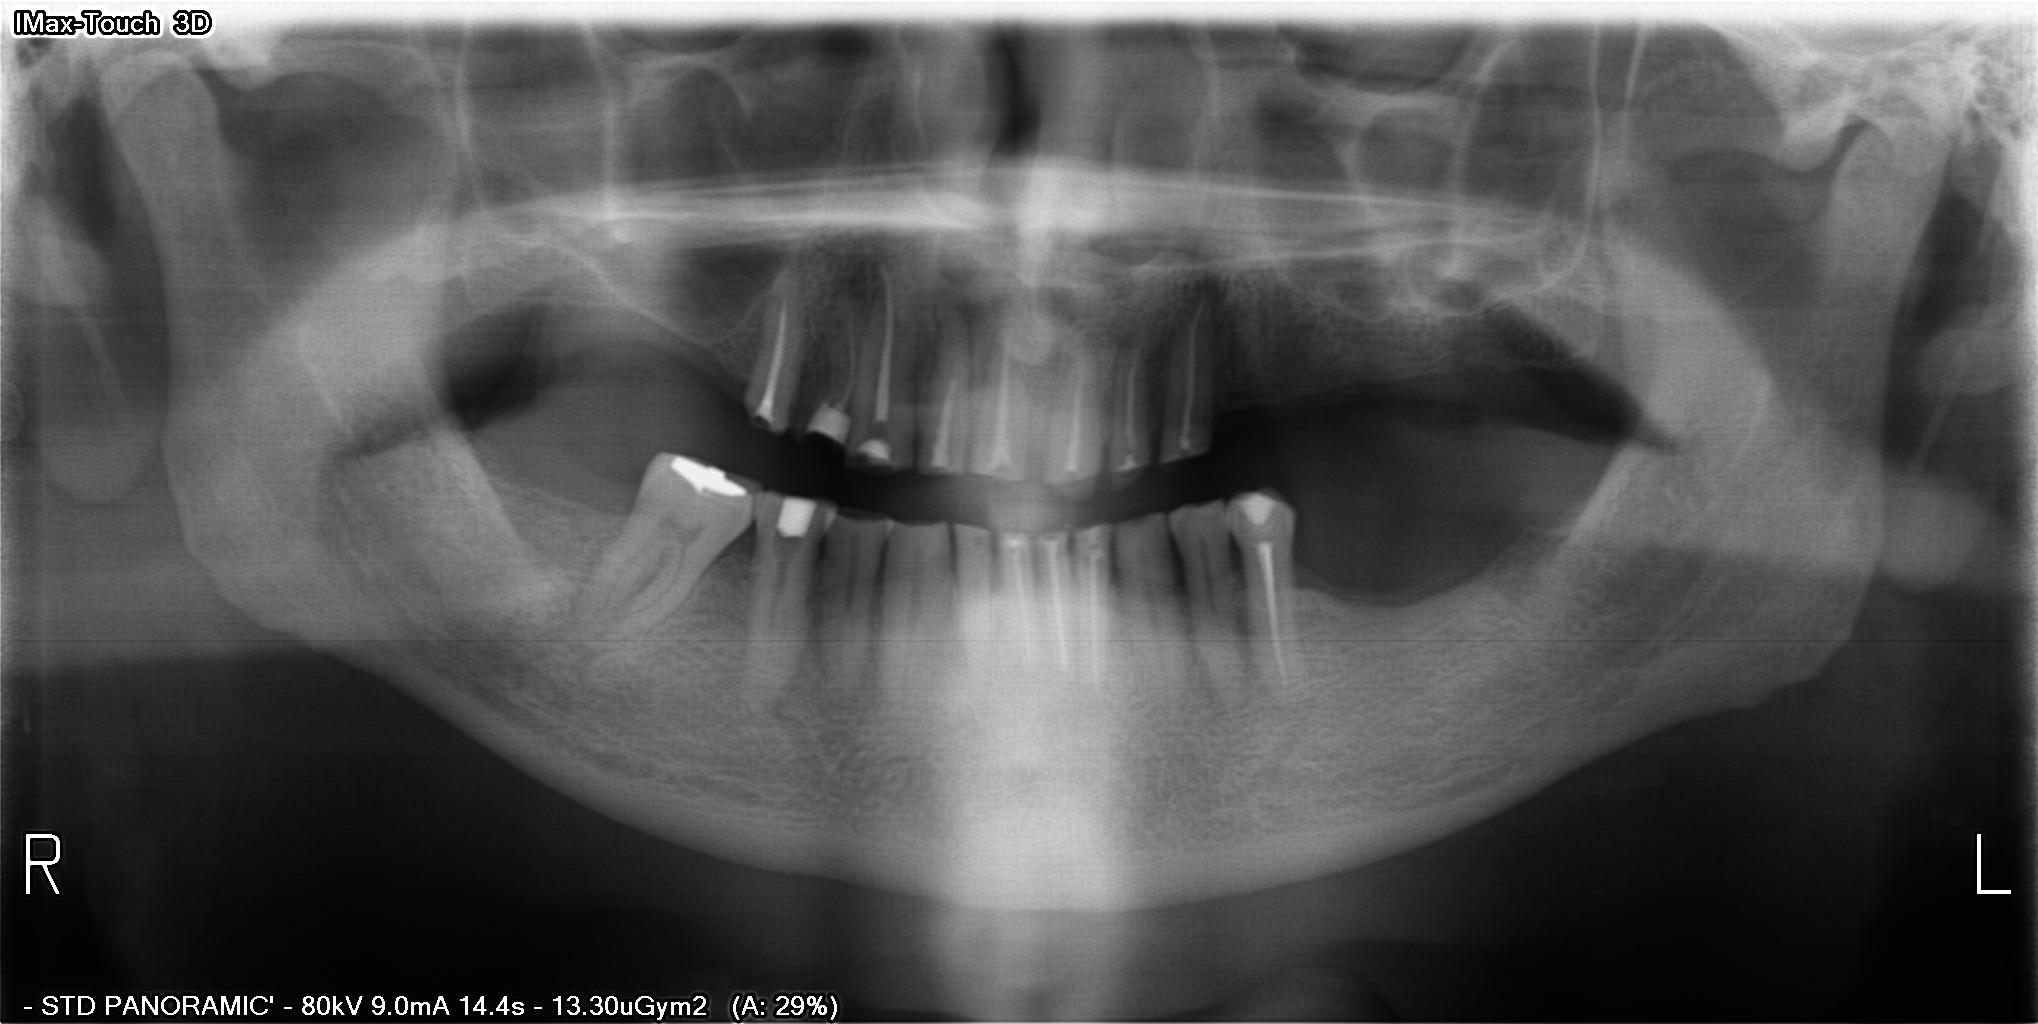Çürük: (662, 445, 751, 508), (799, 388, 860, 453), (769, 479, 823, 551), (1244, 479, 1294, 525), (853, 443, 897, 466)
Çürük Bölgesi: (1236, 491, 1252, 539)
